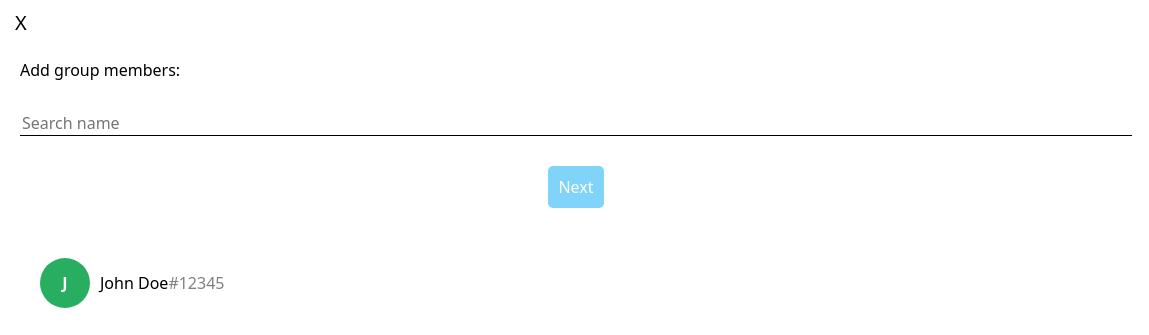
Test: AddGroup Component › When clicking a contact › gets added to selectedContacts
Click the button with test id "addContactToGroup".
click(65, 283)  # box [30, 248, 1122, 318]
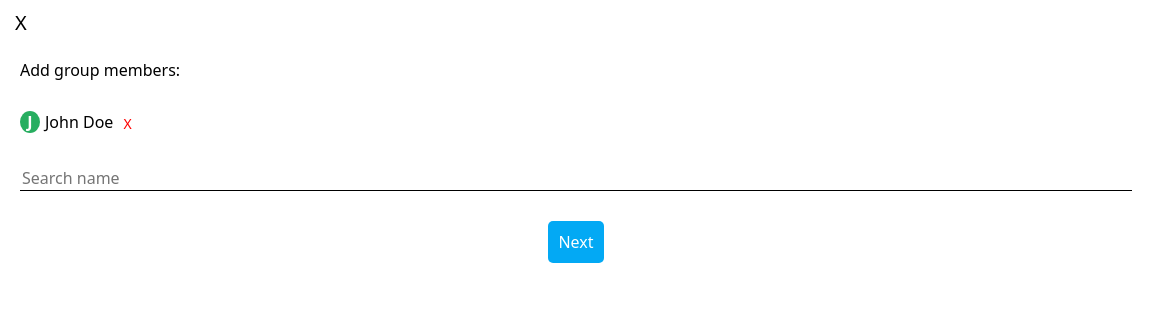
Expected: the list item with test id "selectedWrapper" is shown, [20, 111, 137, 136]
